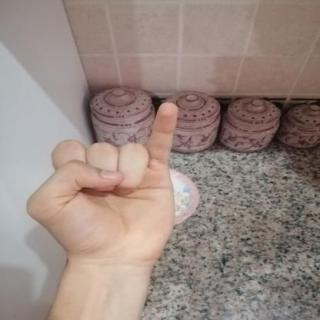MEEM: (10, 93, 192, 270)
